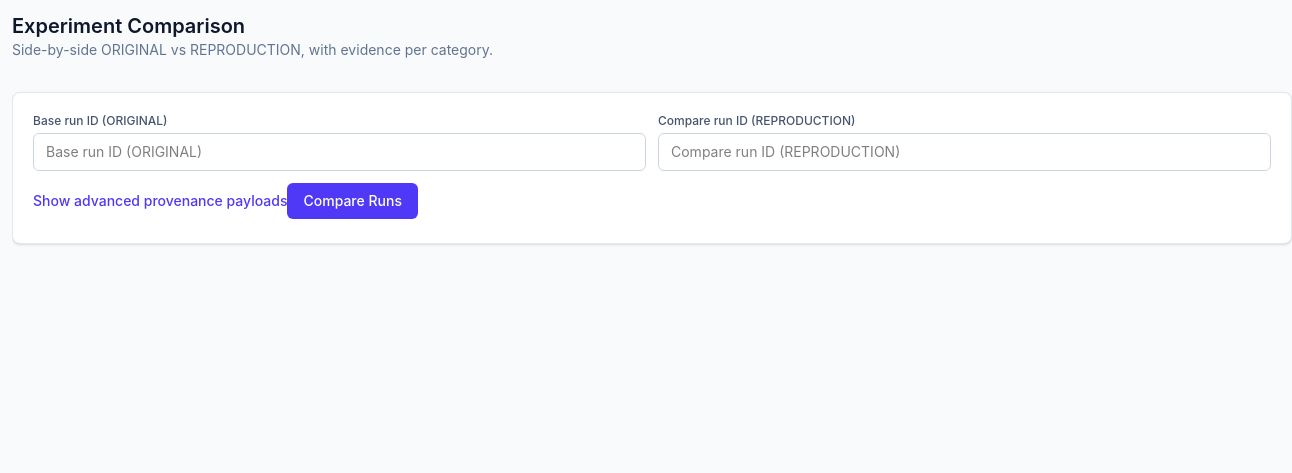
Test: ComparisonPage accessibility › associates real labels with the base/compare run ID fields and the advanced provenance textareas
Expected: the field labelled "Base run ID (ORIGINAL)" is shown, [33,133,646,171]
Expected: the field labelled "Compare run ID (REPRODUCTION)" is shown, [658,133,1271,171]
Click the button "Show advanced provenance payloads" at (160, 201), box [33,191,288,211]
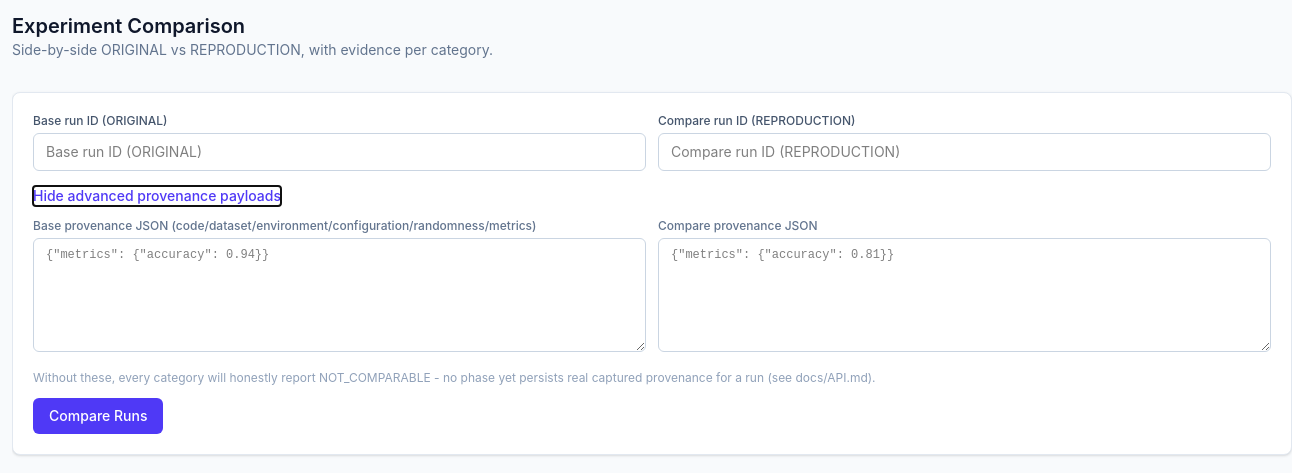
Now the text box labelled "Base provenance JSON" is shown, box [33,238,646,352]
Now the text box labelled "Compare provenance JSON" is shown, box [658,238,1271,352]
